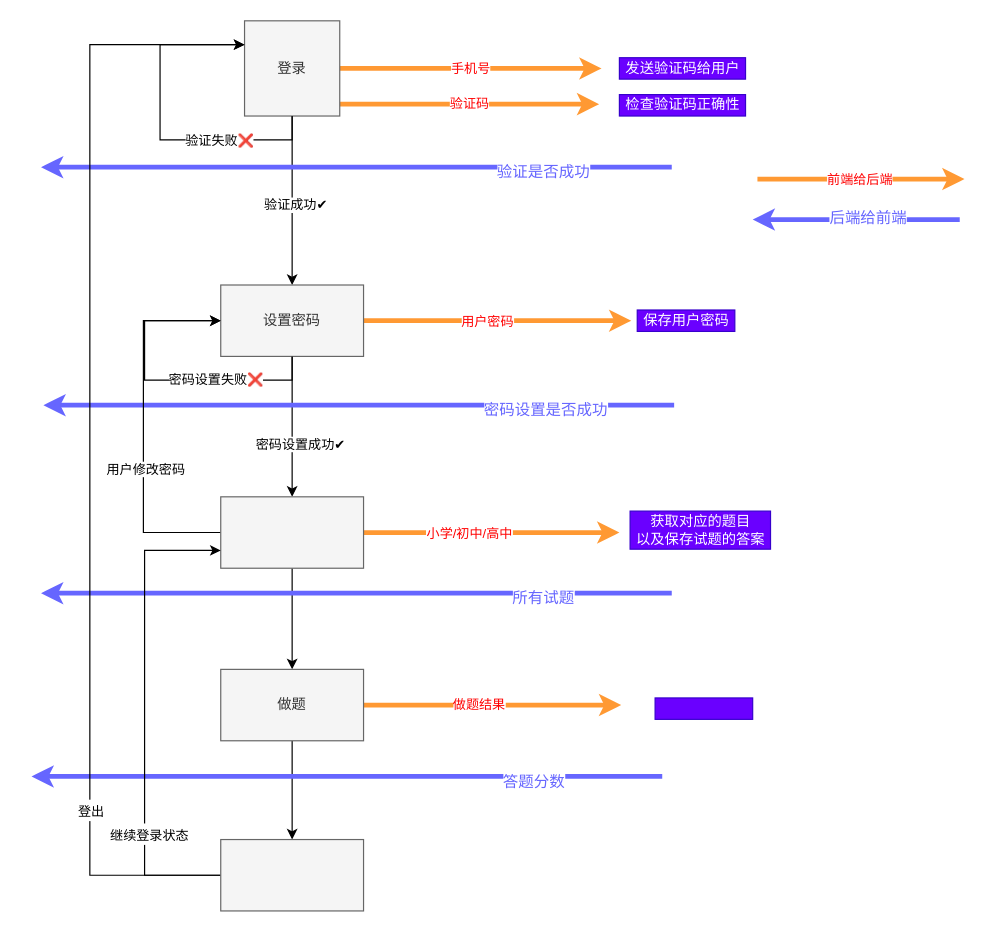
This 996x932 diagram has some shape labels left out. The shapes that lost their labels are listed below. From the top down, each one's centre as x and y in pixels, then its label:
(292,532): 登录状态
(703,708): 计算答题分数
(292,874): 显示分数完成
